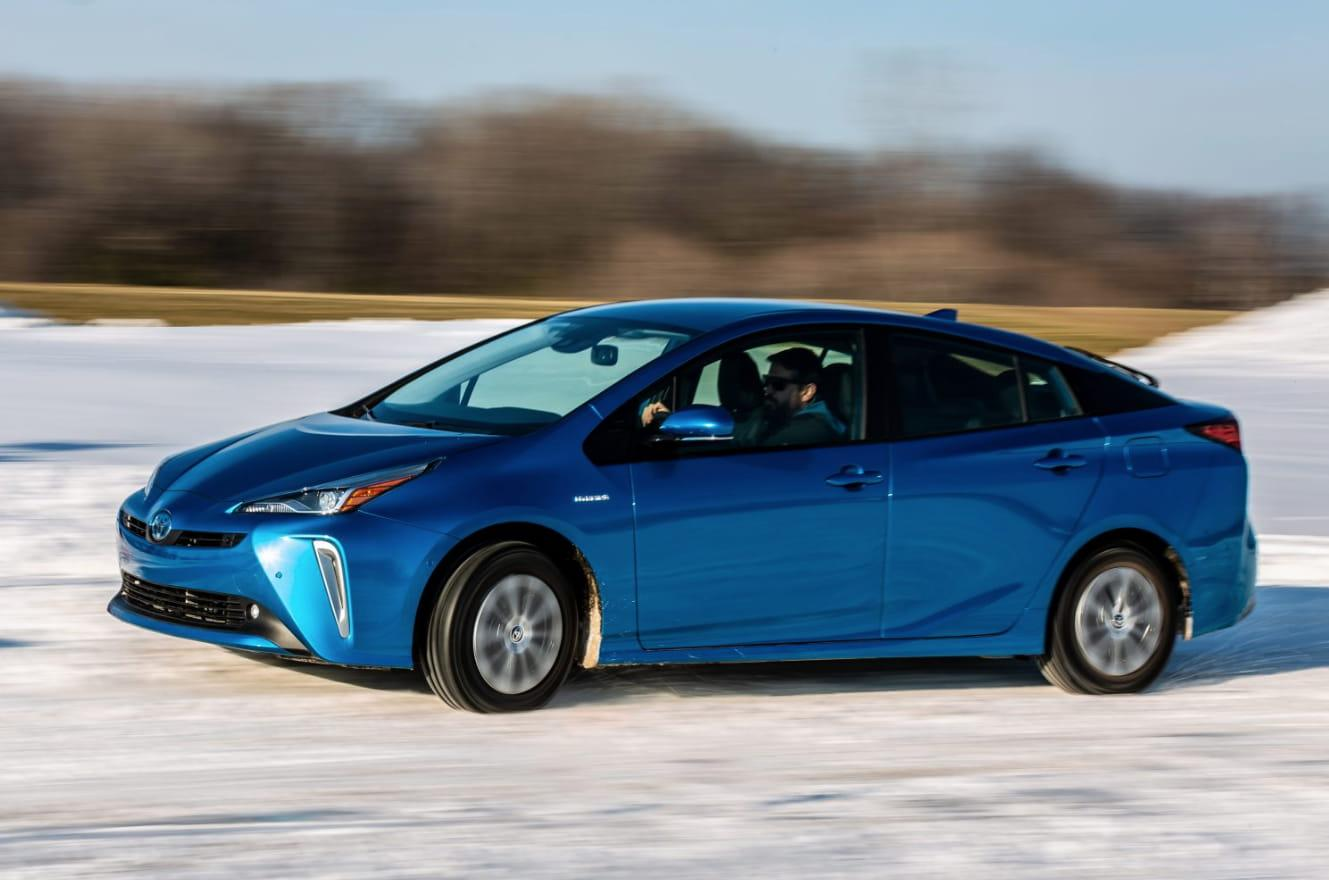windshield: (333, 310, 710, 435)
